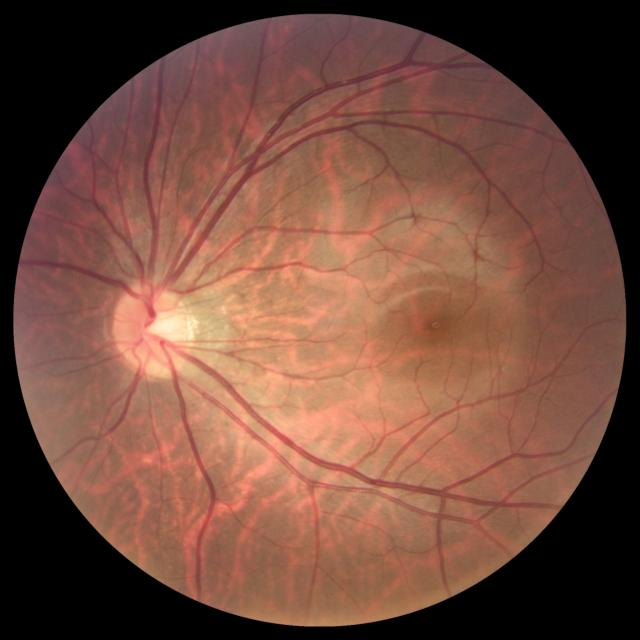OC: (141, 309, 177, 346)
OD: (111, 282, 196, 374)
